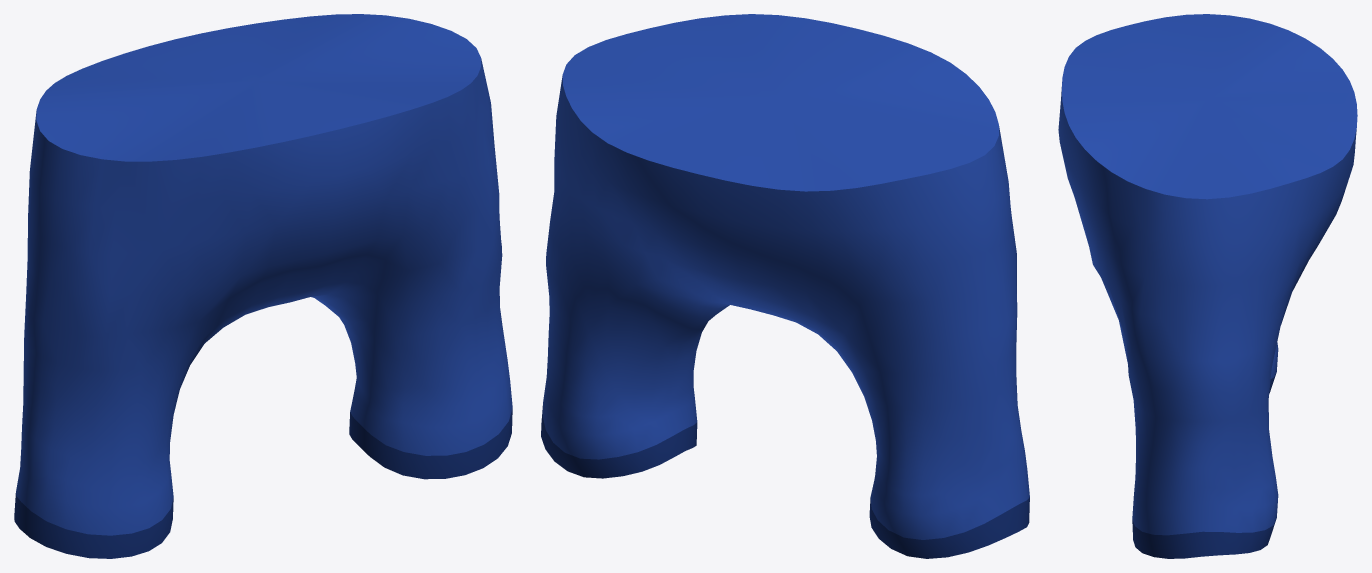
The model's file is 6Mattshea.fbx.
3 views of the same model, side by side, from view 1: azimuth 30°, elevation 25°; view 2: azimuth 150°, elevation 25°; view 3: azimuth 270°, elevation 25° (orthographic). The views are drawn at different scales.
Visible parts, largest first — view 1: 6Mattshea; view 2: 6Mattshea; view 3: 6Mattshea.
Part boxes in pixels (bbox=[...]): 6Mattshea: bbox=[14, 14, 512, 558]; 6Mattshea: bbox=[541, 14, 1029, 558]; 6Mattshea: bbox=[1058, 14, 1357, 558].
Size of the model in its own units: 0.6404 by 0.5276 by 0.3793.
